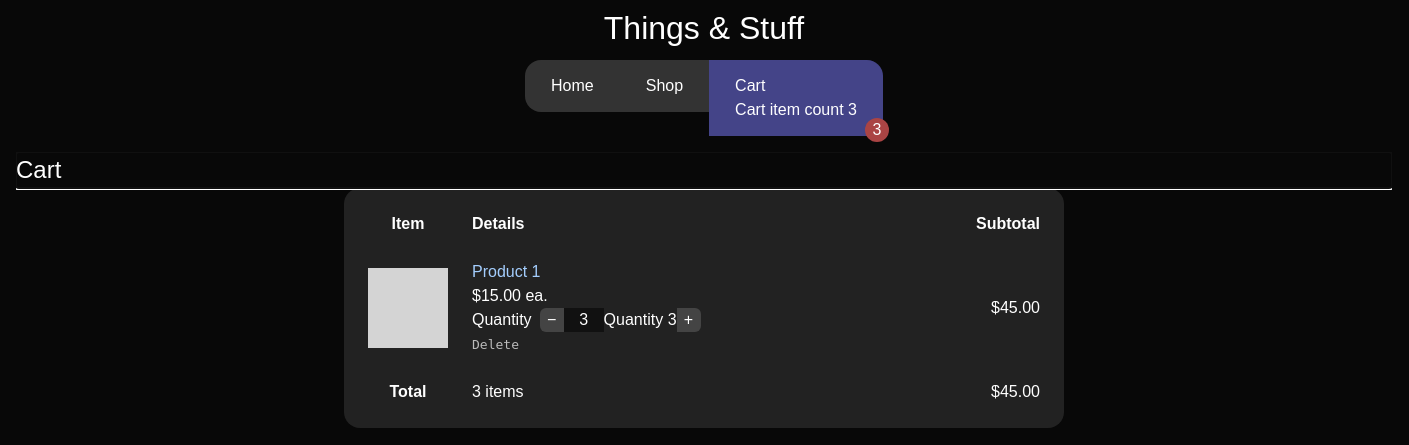
Test: Delete button › removes the item from the cart
Expected: the link "Product 1" is shown, [472, 263, 540, 280]
Click the button "Delete" at (496, 344), box [472, 337, 519, 352]
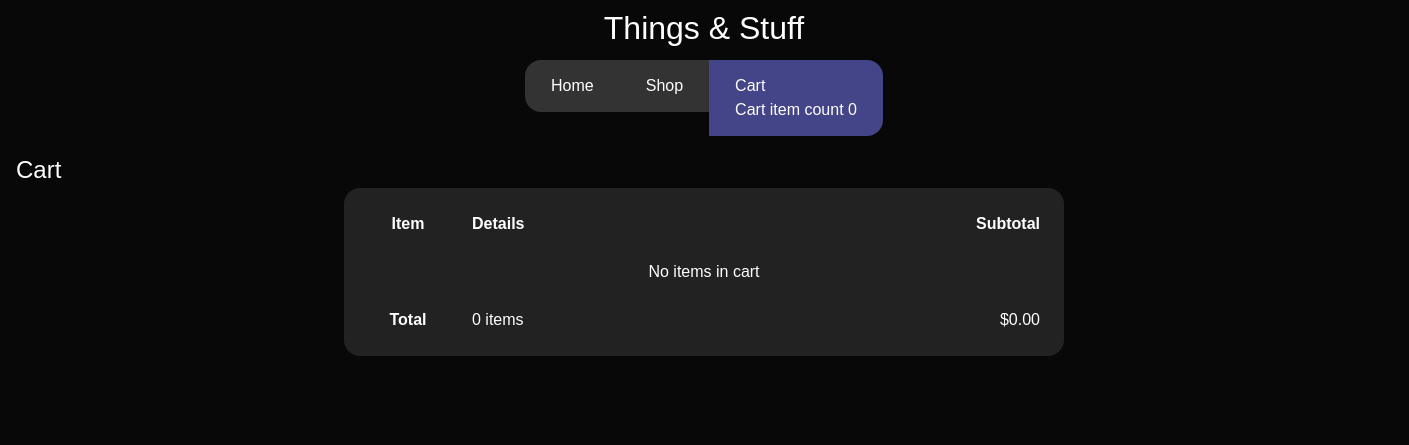
Expected: the link "Product 1" is gone
